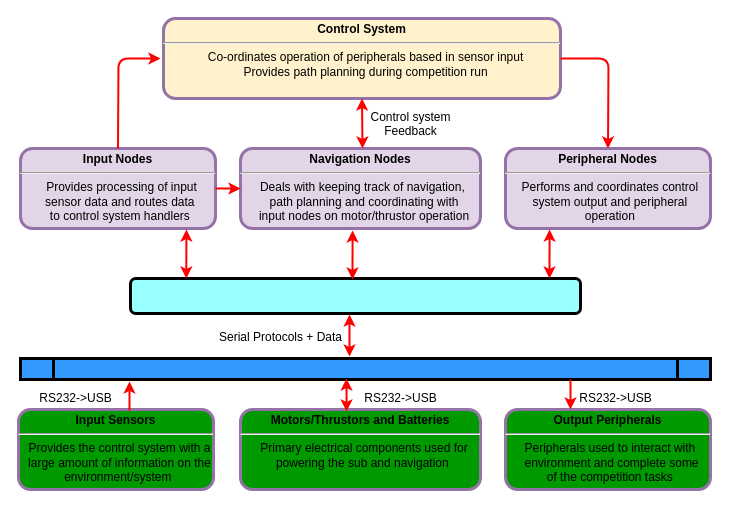
The diagram is 729 pixels wide and 508 high, and some of its shapes have lost their labels. Each missing label, with the box of its shape:
ODROID + Linux OS: (18, 356, 712, 380)
ROS Communication Core: (128, 276, 582, 314)
